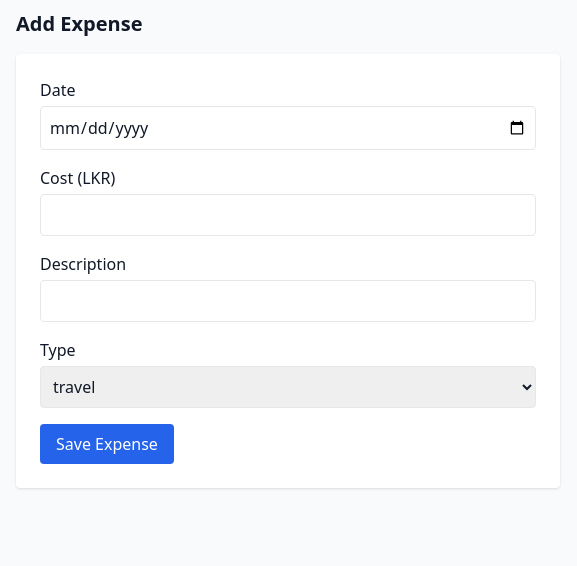
ExpenseForm › shows validation errors when submitted empty
This screenshot has width=577, height=566.
Click the button "Save Expense" at [107, 444], box left=40, top=424, right=174, bottom=464
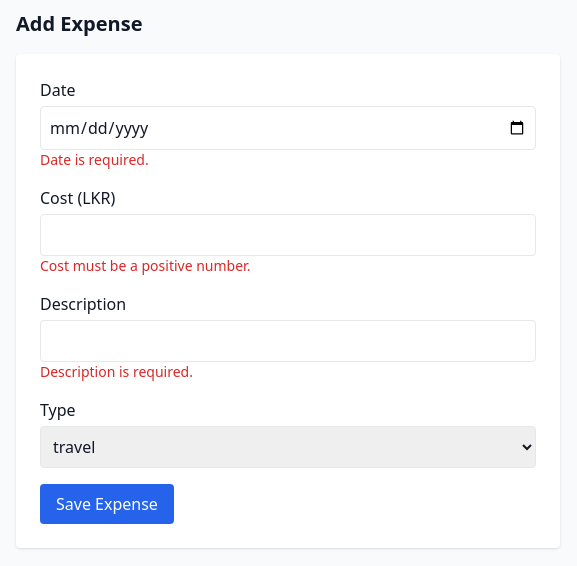
Check: the text "Date is required." is shown, box left=40, top=150, right=149, bottom=169
Check: the text "Description is required." is shown, box left=40, top=362, right=193, bottom=381
